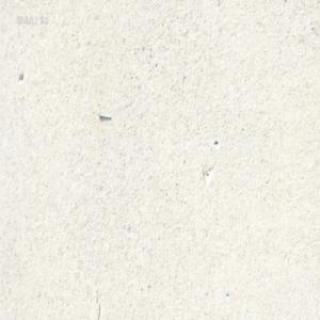Nailtrack_idkeyframe: (96, 109, 110, 118)
